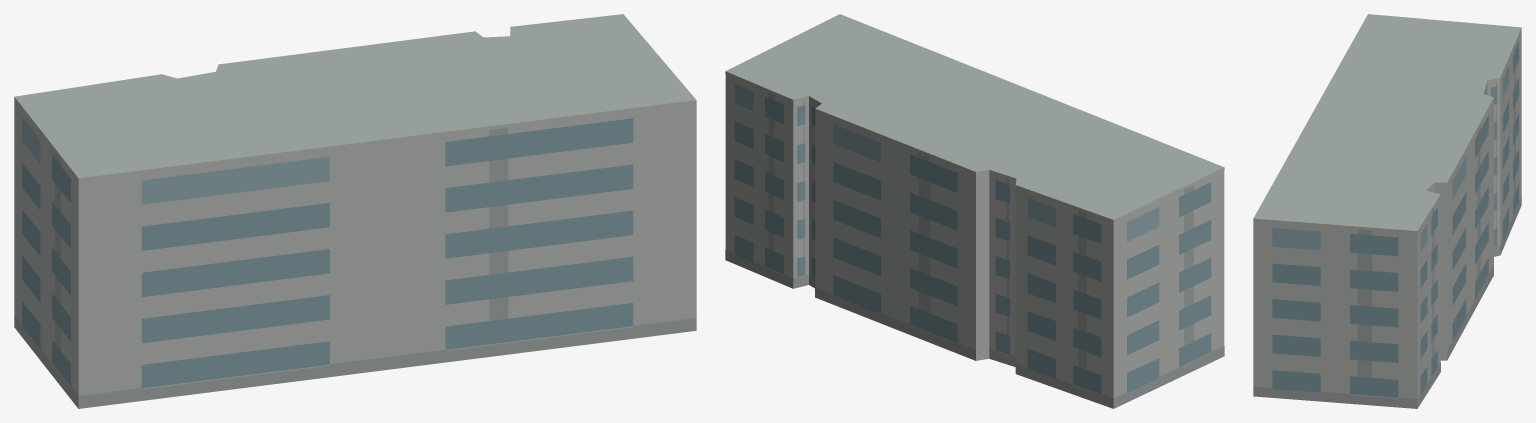
The model's file is survey-upis-32798634.glb.
3 views of the same model, side by side, from view 1: azimuth 30°, elevation 25°; view 2: azimuth 150°, elevation 25°; view 3: azimuth 270°, elevation 25° (orthographic). The views are drawn at different scales.
Parts seen in each view (by area): view 1: survey-upis-32798634.tmp; view 2: survey-upis-32798634.tmp; view 3: survey-upis-32798634.tmp.
Boxes of the visible parts, x1,y1,x2,y2 form: survey-upis-32798634.tmp: (14,14,696,408); survey-upis-32798634.tmp: (725,14,1224,408); survey-upis-32798634.tmp: (1253,14,1521,408).
Size of the model in its own units: 39.93 by 15.25 by 20.87.
